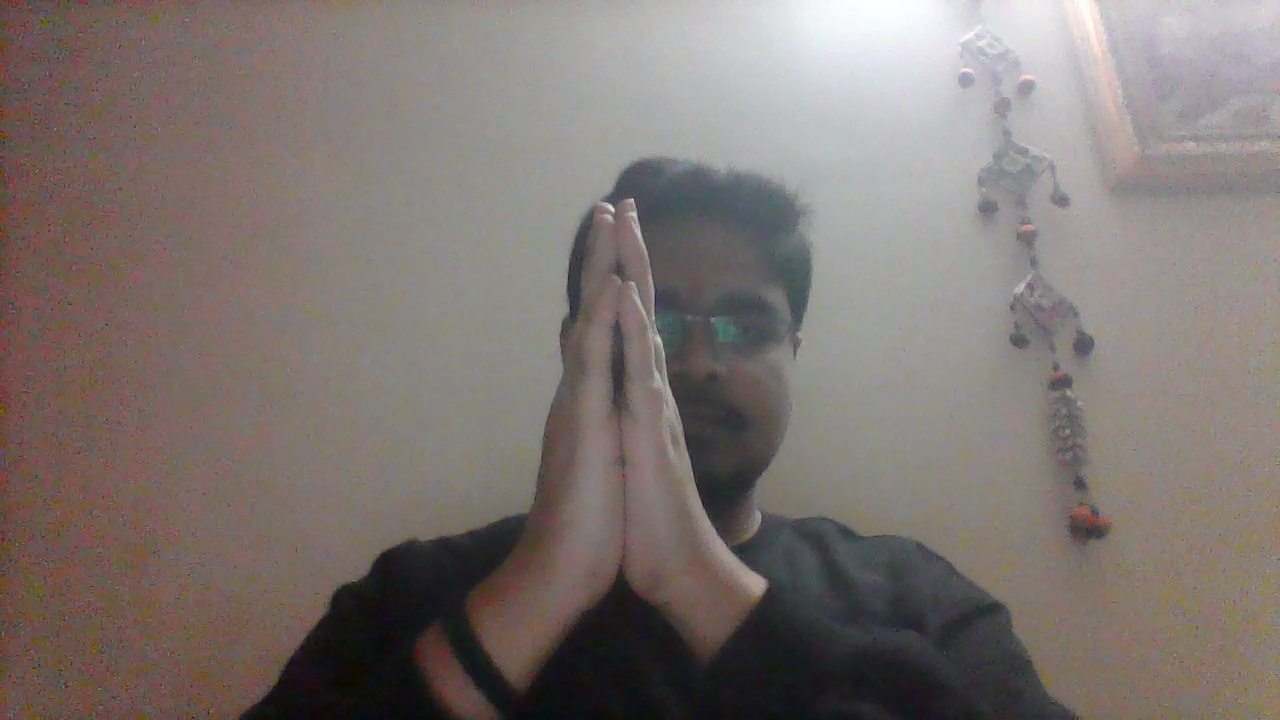Namaste: (520, 193, 706, 600)
